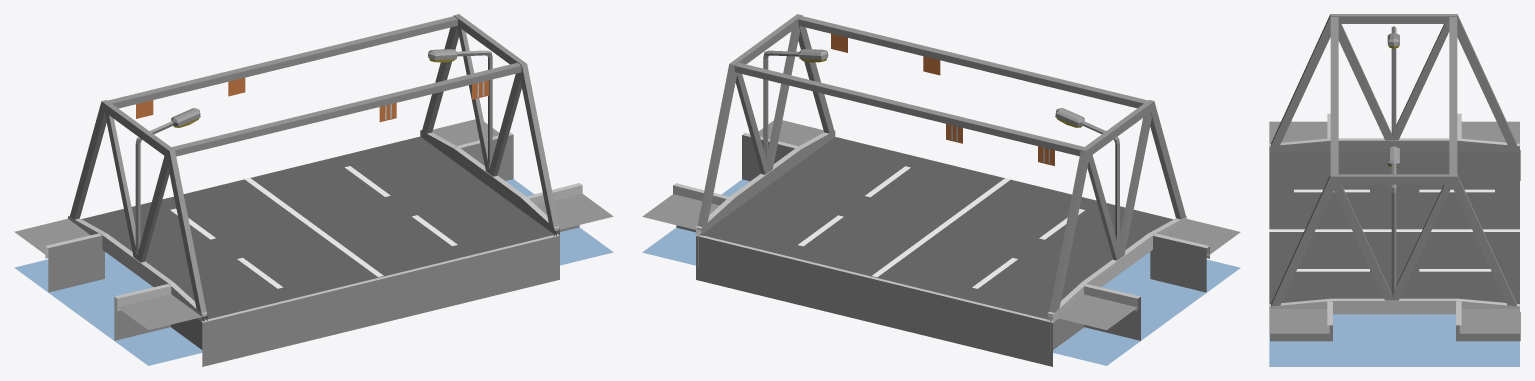
The model's file is road_tile_bridge_2x2_008.fbx.
3 renders of one model, left to right at view 1: azimuth 30°, elevation 25°; view 2: azimuth 150°, elevation 25°; view 3: azimuth 270°, elevation 25°, orthographic. The views are drawn at different scales.
Visible parts, largest first — view 1: road_tile_bridge_2x2_008; view 2: road_tile_bridge_2x2_008; view 3: road_tile_bridge_2x2_008.
Part boxes in pixels (x1,y1,x2,y2): road_tile_bridge_2x2_008: (14,14,613,366); road_tile_bridge_2x2_008: (642,14,1240,366); road_tile_bridge_2x2_008: (1269,14,1520,366).
Size of the model in its own units: 1600 by 640 by 803.
